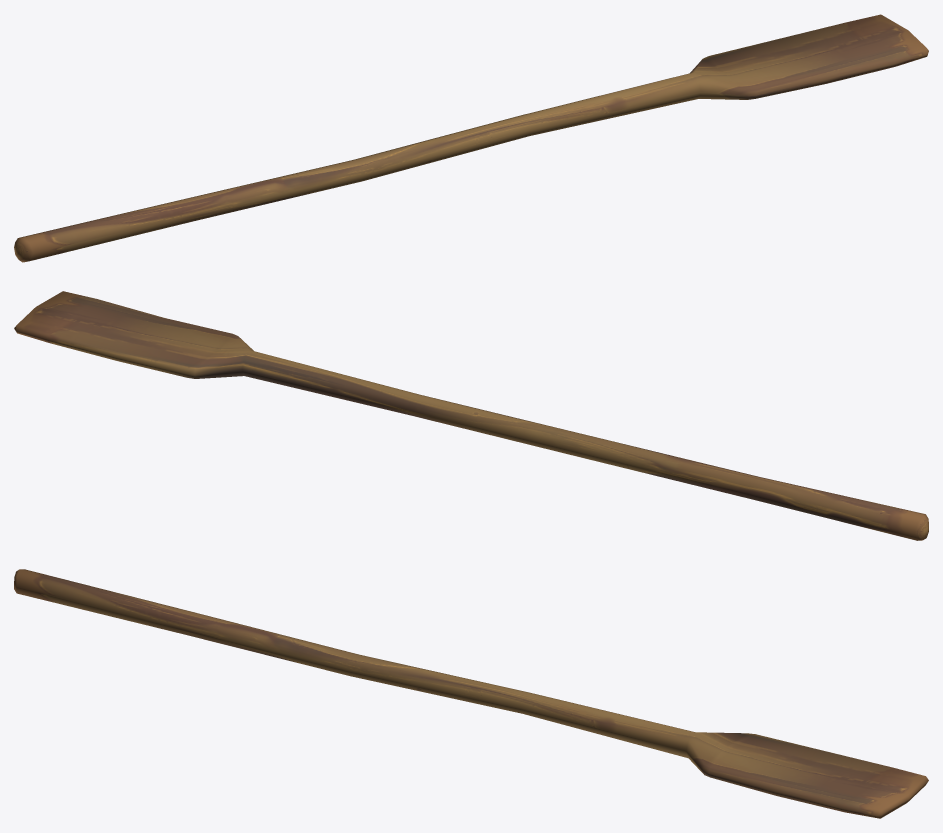
The model's file is SM_PROP_boat_paddle_town.fbx.
The picture shows the model from 3 angles, top to bottom: view 1: azimuth 30°, elevation 25°; view 2: azimuth 150°, elevation 25°; view 3: azimuth 330°, elevation 25°; orthographic projection.
Parts seen in each view (by area): view 1: SM_PROP_boat_paddle_town_LOD0; view 2: SM_PROP_boat_paddle_town_LOD0; view 3: SM_PROP_boat_paddle_town_LOD0.
Boxes of the visible parts, box(x1,y1,x2,y2) form: SM_PROP_boat_paddle_town_LOD0: box(14, 14, 928, 262); SM_PROP_boat_paddle_town_LOD0: box(14, 291, 928, 540); SM_PROP_boat_paddle_town_LOD0: box(14, 569, 928, 818).
Size of what is drawn, in the model's own units: 374 by 10.34 by 37.23.
